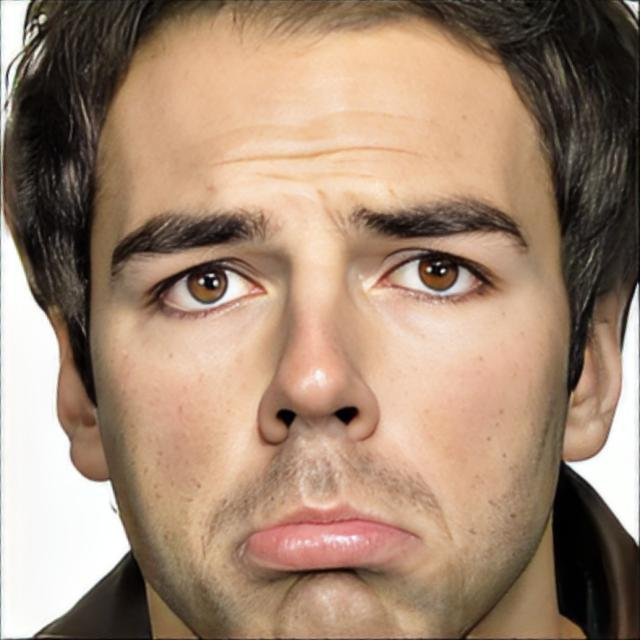sad: (91, 0, 572, 640)
